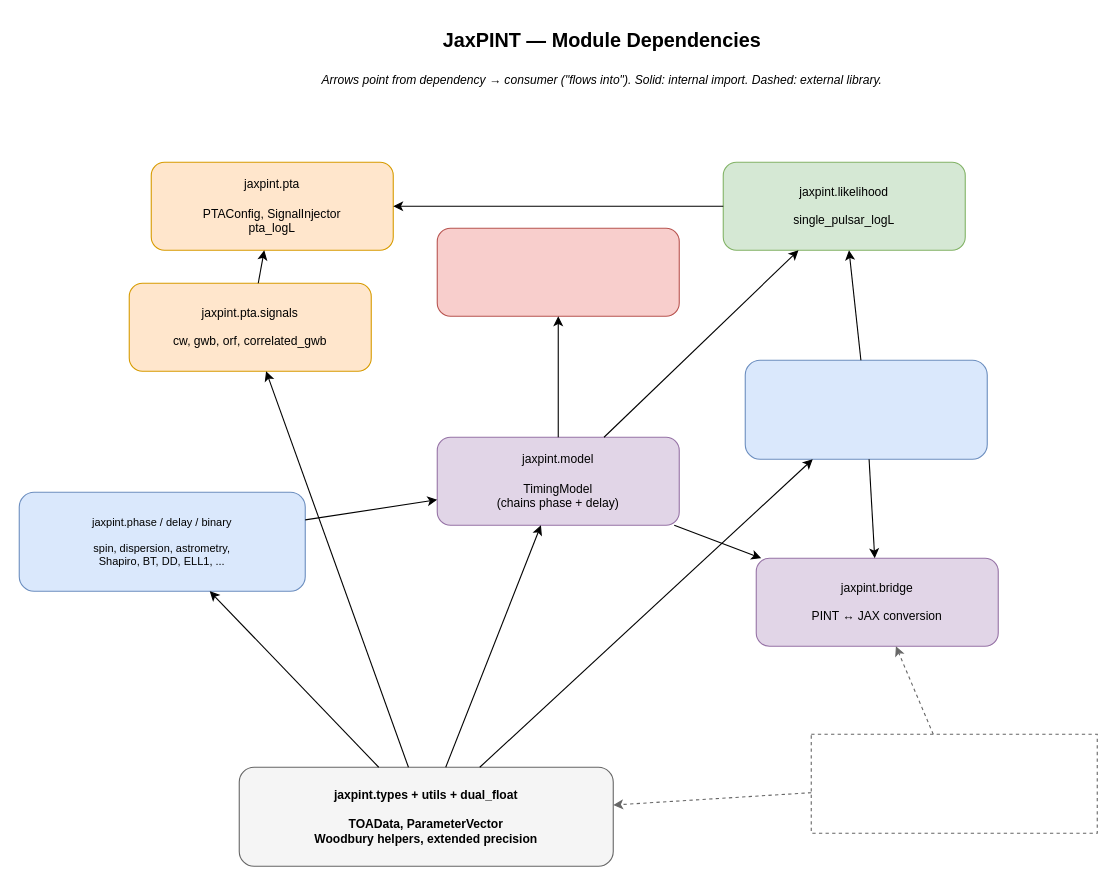
The diagram is 1117 pixels wide and 886 high, and some of its shapes have lost their labels. The shapes that lost their labels are listed below. From the top down, each one's box as (x1, y1, x2, y2) in pixels, then its label:
(436, 227, 679, 316): jaxpint.fitters WLSFitter, GLSFitter, WidebandGLS
(744, 359, 987, 459): jaxpint.noise white, ECORR, PL red, PL DM, PL chrom, PL SW
(810, 733, 1097, 833): External PINT, JAX, Equinox, jaxtyping
